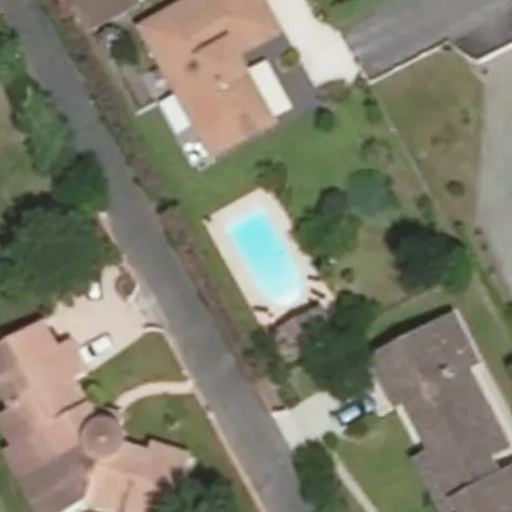pool: (213, 207, 298, 276)
